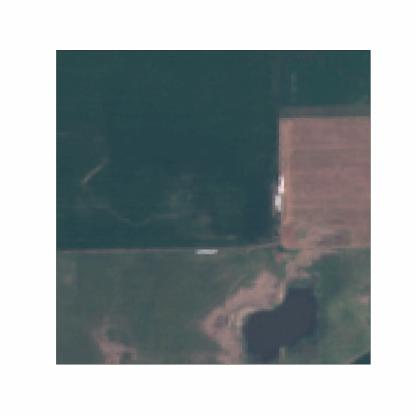silobolsa: (194, 246, 222, 255), (278, 174, 286, 194), (275, 194, 282, 211)
